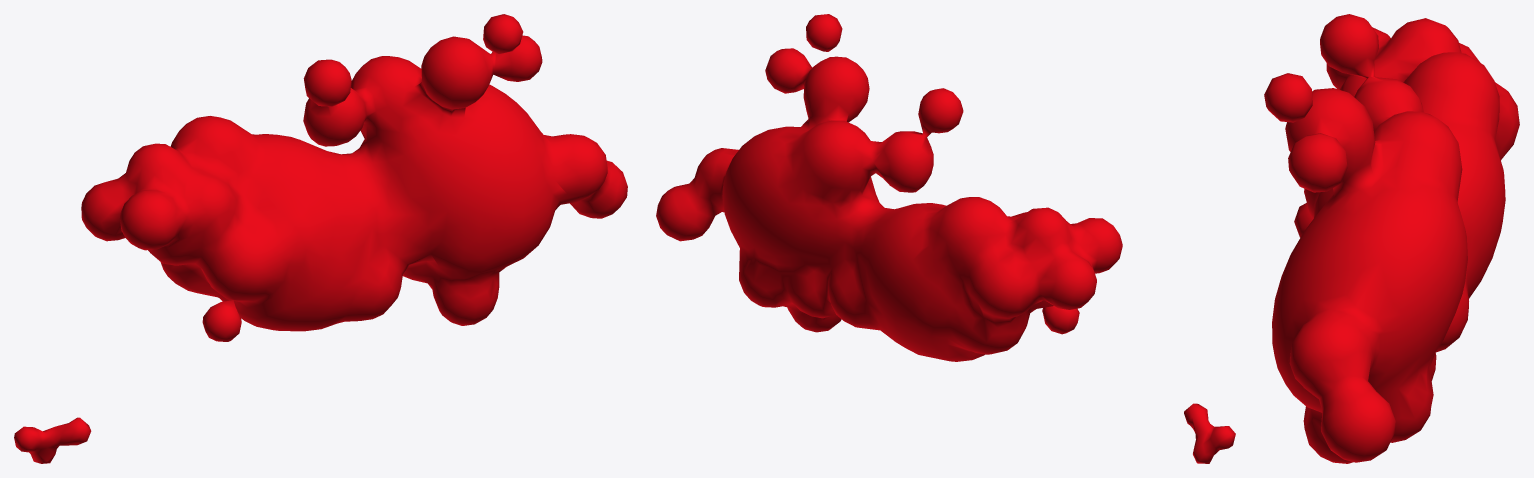
Rendered from cloudrainbow_red.gltf.
3 renders of one model, left to right at view 1: azimuth 30°, elevation 25°; view 2: azimuth 150°, elevation 25°; view 3: azimuth 270°, elevation 25°, orthographic. The views are drawn at different scales.
Parts seen in each view (by area): view 1: Mball.041_Mesh; view 2: Mball.041_Mesh; view 3: Mball.041_Mesh.
Boxes of the visible parts, x1,y1,x2,y2 form: Mball.041_Mesh: [14, 14, 627, 463]; Mball.041_Mesh: [656, 14, 1235, 463]; Mball.041_Mesh: [1264, 14, 1519, 463].
Size of the model in its own units: 22.61 by 12.66 by 6.61.
